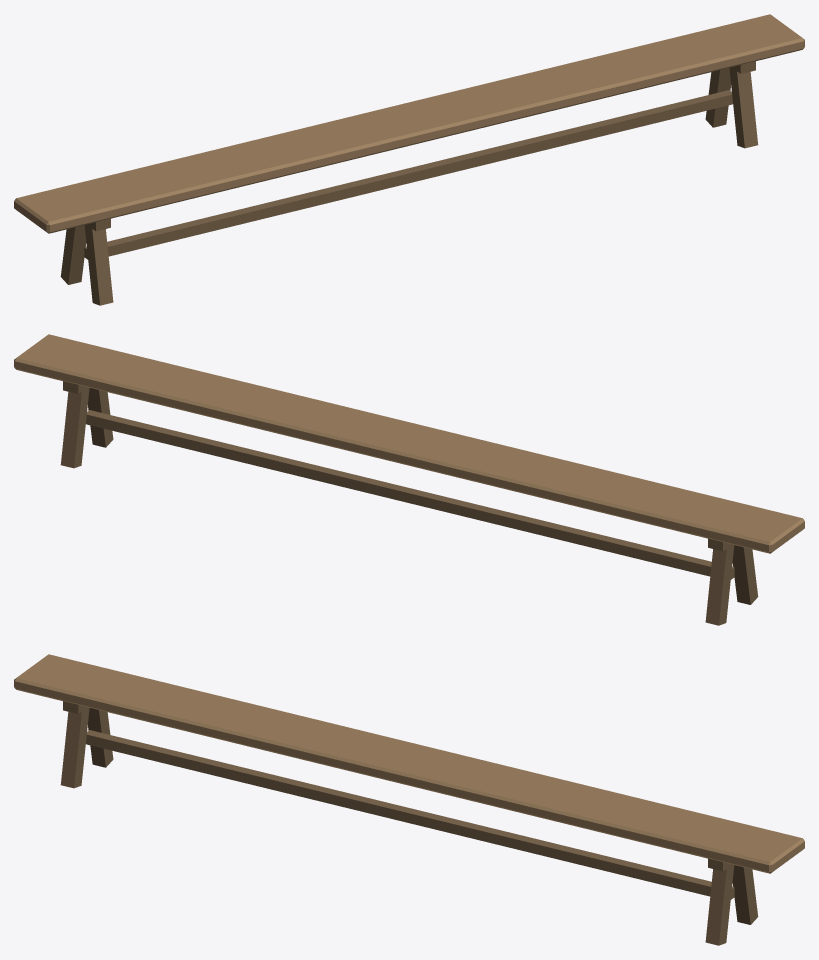
Rendered from bench.glb.
3 renders of one model, top to bottom at view 1: azimuth 30°, elevation 25°; view 2: azimuth 150°, elevation 25°; view 3: azimuth 330°, elevation 25°, orthographic.
Parts seen in each view (by area): view 1: bench_seat, bench_legs; view 2: bench_seat, bench_legs; view 3: bench_seat, bench_legs.
Part boxes in pixels (x1,y1,x2,y2): bench_seat: [14, 14, 804, 233]; bench_legs: [60, 61, 758, 305]; bench_seat: [14, 334, 804, 553]; bench_legs: [60, 381, 758, 625]; bench_seat: [14, 654, 804, 873]; bench_legs: [60, 701, 758, 945].
Bounding box in the file's own units: 4 × 0.4824 × 0.36.
